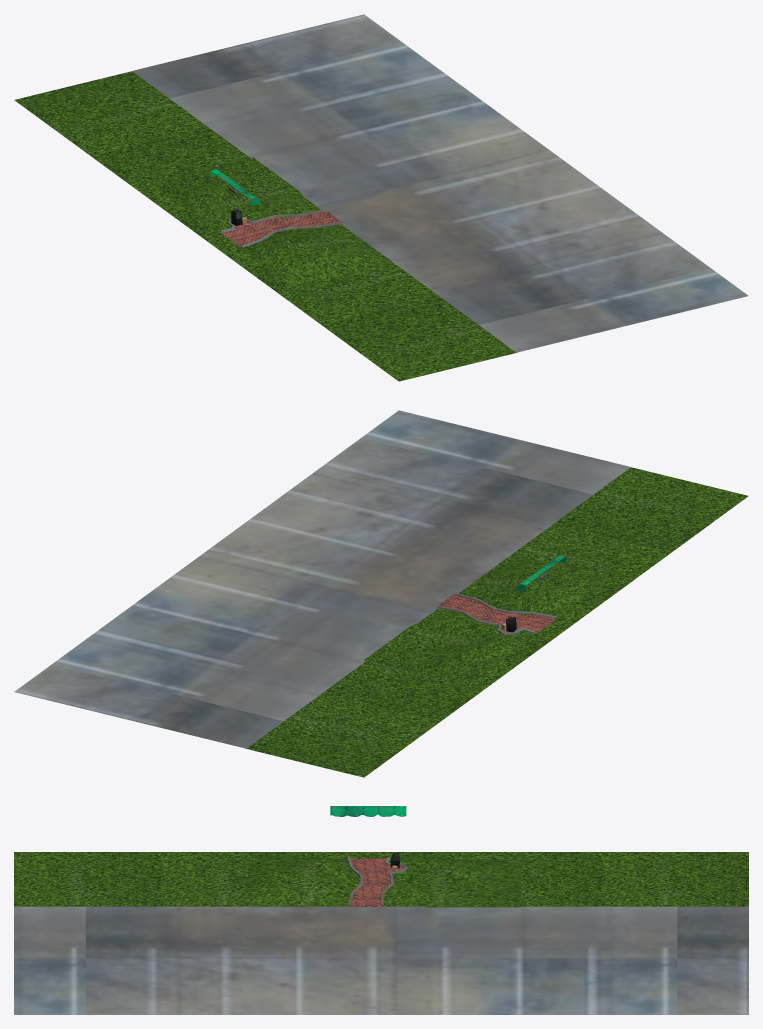
File: outside.fbx
3 renders of one model, top to bottom at view 1: azimuth 30°, elevation 25°; view 2: azimuth 150°, elevation 25°; view 3: azimuth 270°, elevation 25°, orthographic. The views are drawn at different scales.
Parts seen in each view (by area): view 1: parking_lot, grassplane2, grass_plane, road, roadsides; view 2: parking_lot, grassplane2, grass_plane, road, roadsides; view 3: parking_lot, grassplane2, grass_plane, road, shade, roadsides.
Part boxes in pixels (x1,y1,x2,y2): parking_lot: (132,14,748,352); grassplane2: (14,71,516,381); grass_plane: (151,157,385,285); road: (220,210,342,247); roadsides: (220,209,341,247); parking_lot: (14,410,630,748); grassplane2: (246,467,748,777); grass_plane: (364,557,605,685); road: (436,594,555,633); roadsides: (437,593,556,634); parking_lot: (14,906,748,1014); grassplane2: (14,852,748,906); grass_plane: (242,856,520,907); road: (349,858,403,906); shade: (330,806,406,816); roadsides: (347,857,407,905).
Size of the model in its own units: 341 by 56.3 by 649.
